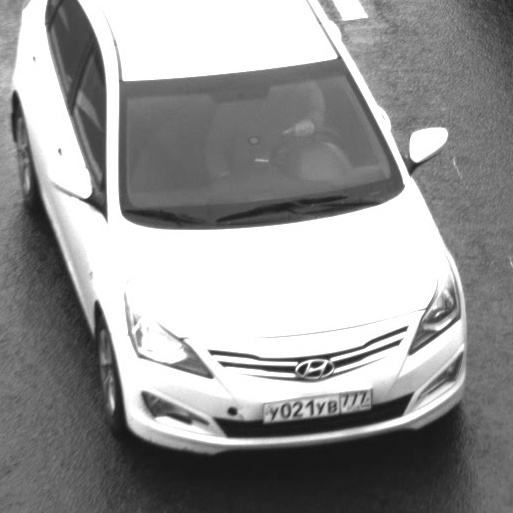plate: (248, 379, 381, 431)
